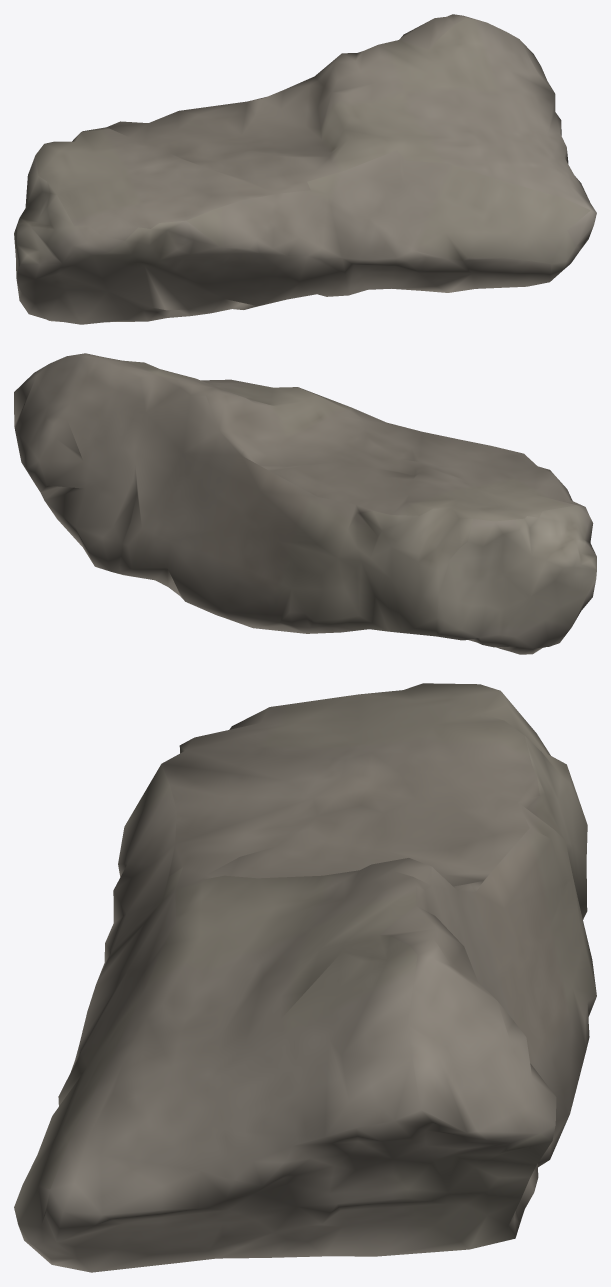
Rendered from ph_moonrock_1.glb.
The picture shows the model from 3 angles, top to bottom: view 1: azimuth 30°, elevation 25°; view 2: azimuth 150°, elevation 25°; view 3: azimuth 270°, elevation 25°; orthographic projection. The views are drawn at different scales.
Visible parts, largest first — view 1: ph_moonrock_1_lod1; view 2: ph_moonrock_1_lod1; view 3: ph_moonrock_1_lod1.
Boxes of the visible parts, x1=… form: ph_moonrock_1_lod1: x1=14, y1=14, x2=596, y2=324; ph_moonrock_1_lod1: x1=14, y1=353, x2=596, y2=654; ph_moonrock_1_lod1: x1=14, y1=683, x2=596, y2=1272.
Size of the model in its own units: 0.212 by 0.0751 by 0.1117.
Materials: 1 (1 with a texture image).
